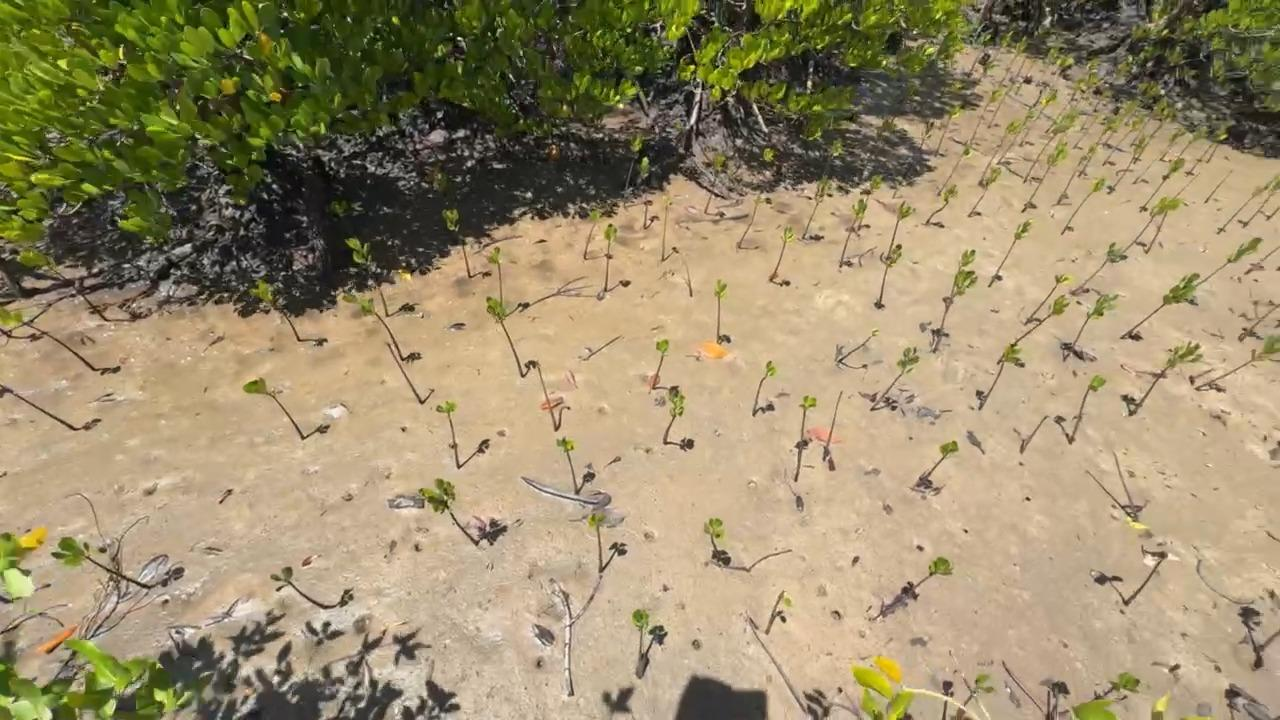Tree: (16, 247, 109, 322), (0, 308, 98, 371), (1128, 339, 1203, 417), (1120, 273, 1200, 340), (996, 293, 1071, 364), (872, 556, 953, 621), (57, 536, 152, 590), (1194, 333, 1280, 391), (1023, 108, 1080, 184), (342, 293, 404, 361), (418, 478, 479, 546), (243, 377, 306, 441), (1062, 293, 1120, 362), (1216, 174, 1280, 236), (932, 269, 979, 353), (1122, 196, 1185, 253), (0, 385, 78, 431), (346, 236, 390, 317), (1193, 237, 1262, 288), (248, 278, 300, 342), (870, 347, 921, 412), (987, 219, 1035, 288), (485, 296, 525, 377), (1071, 241, 1129, 294), (1076, 113, 1123, 178), (1025, 138, 1068, 208), (987, 55, 1027, 129), (978, 344, 1022, 411), (977, 120, 1021, 184), (1055, 142, 1098, 207), (1060, 177, 1107, 236), (1185, 120, 1233, 177), (1043, 75, 1091, 132), (994, 106, 1038, 167), (1138, 158, 1186, 213), (1069, 375, 1107, 444), (1124, 549, 1169, 606), (1024, 273, 1070, 328), (1106, 134, 1147, 195), (1132, 107, 1175, 165), (269, 566, 325, 609), (386, 342, 424, 405), (1018, 90, 1059, 148), (1102, 112, 1145, 167), (1032, 55, 1076, 107), (442, 208, 473, 279), (794, 394, 818, 483), (967, 90, 1004, 147), (976, 31, 1015, 84), (801, 174, 832, 240), (1129, 96, 1167, 148), (839, 198, 867, 268), (994, 34, 1029, 89), (1102, 98, 1139, 149), (1242, 180, 1280, 229), (936, 147, 974, 196), (1237, 300, 1280, 342), (814, 138, 843, 200), (436, 400, 462, 469), (886, 200, 916, 259), (876, 244, 903, 309), (916, 440, 952, 488), (534, 361, 558, 432), (969, 167, 1003, 217), (622, 132, 644, 209), (1125, 82, 1160, 126), (1080, 88, 1115, 131), (1112, 450, 1133, 521), (822, 391, 843, 462), (737, 195, 764, 249), (934, 105, 961, 159), (857, 175, 883, 231), (752, 360, 777, 418), (769, 224, 794, 282), (966, 28, 995, 78), (557, 436, 581, 496), (662, 385, 686, 445), (838, 328, 879, 363), (764, 589, 794, 636), (704, 152, 726, 214), (1093, 672, 1140, 701), (925, 185, 959, 224), (1071, 58, 1101, 100), (587, 511, 607, 573), (889, 80, 915, 126), (1132, 150, 1166, 185), (484, 247, 504, 306), (891, 158, 919, 200), (951, 249, 976, 296), (1013, 56, 1041, 97), (1021, 415, 1050, 454), (962, 672, 993, 707), (1244, 246, 1280, 276), (1145, 210, 1169, 255), (1203, 169, 1233, 205), (1177, 126, 1209, 159), (583, 208, 602, 261), (651, 338, 670, 390), (636, 157, 649, 230), (1159, 126, 1186, 161), (1035, 47, 1061, 83), (714, 279, 728, 345), (632, 608, 649, 661), (604, 223, 617, 292), (704, 517, 724, 561), (1172, 172, 1201, 200), (662, 195, 673, 262), (917, 120, 935, 152), (1259, 630, 1280, 651), (1204, 140, 1222, 164), (685, 265, 693, 297), (1266, 206, 1280, 221), (1032, 88, 1043, 107)
